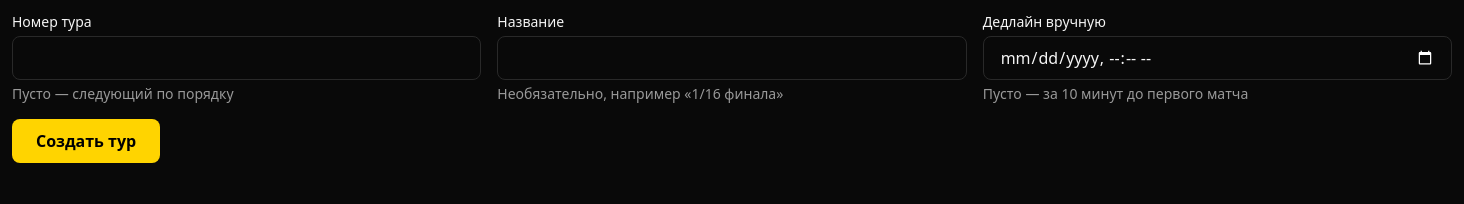
Scenario: TourForm › shows the server's duplicate-number message at the field
Type "1" into the number field labelled "Номер тура" at (247,58), box [12,36,481,80]
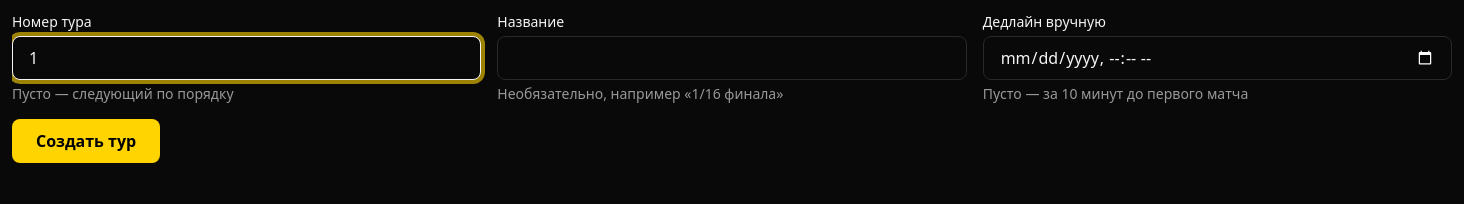
Click the button "Создать тур" at (86,141), box [12,119,160,163]
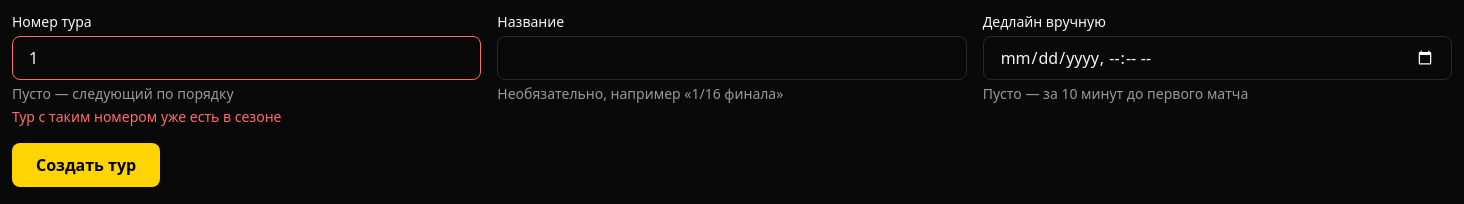
Expected: the text "Тур с таким номером уже есть в сезоне" is shown, [12,107,282,126]
